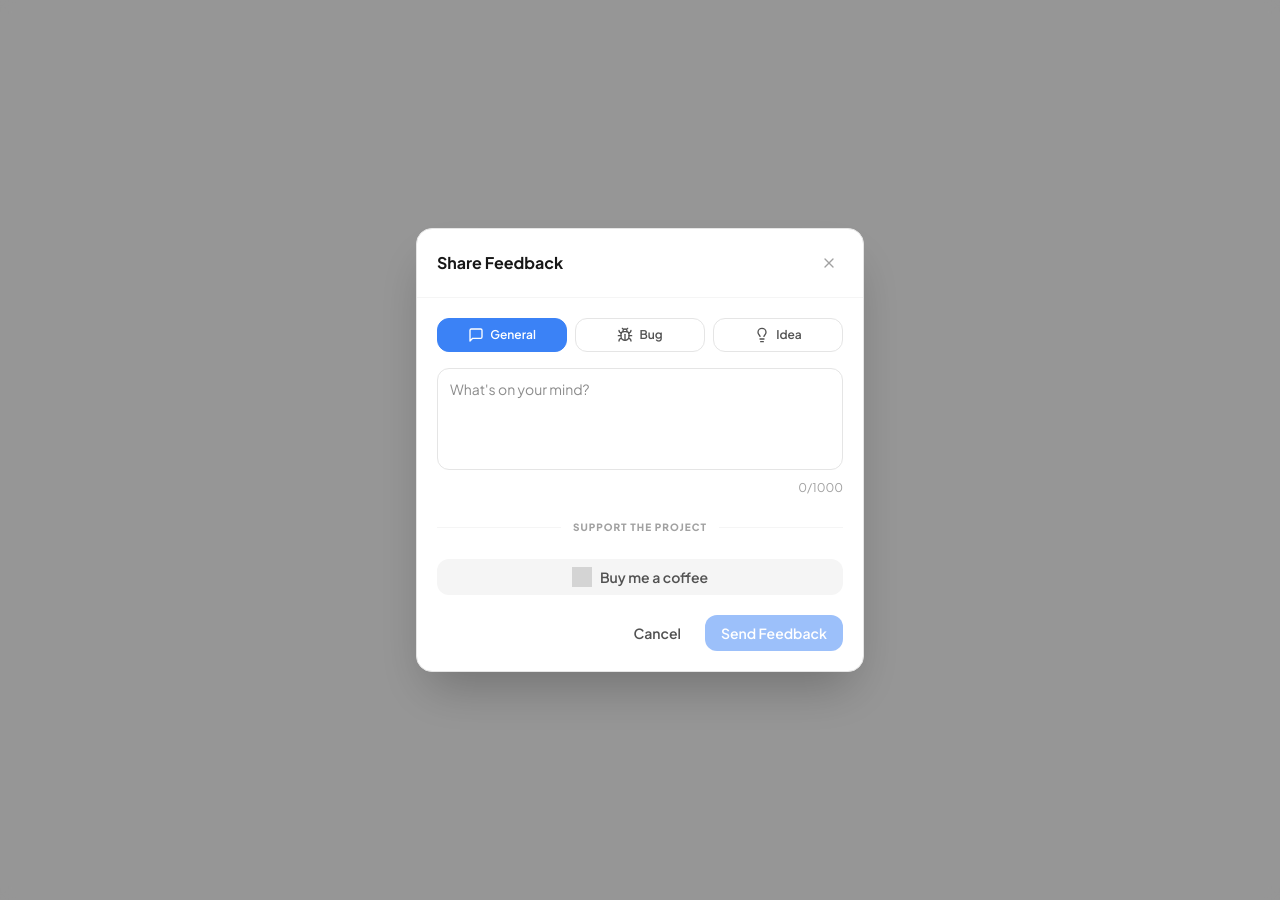
Test: FeedbackModal › enables submit once message is typed
Type "Great app!" into the text box named "Feedback message" at (640, 419), box 437,368 -> 843,470
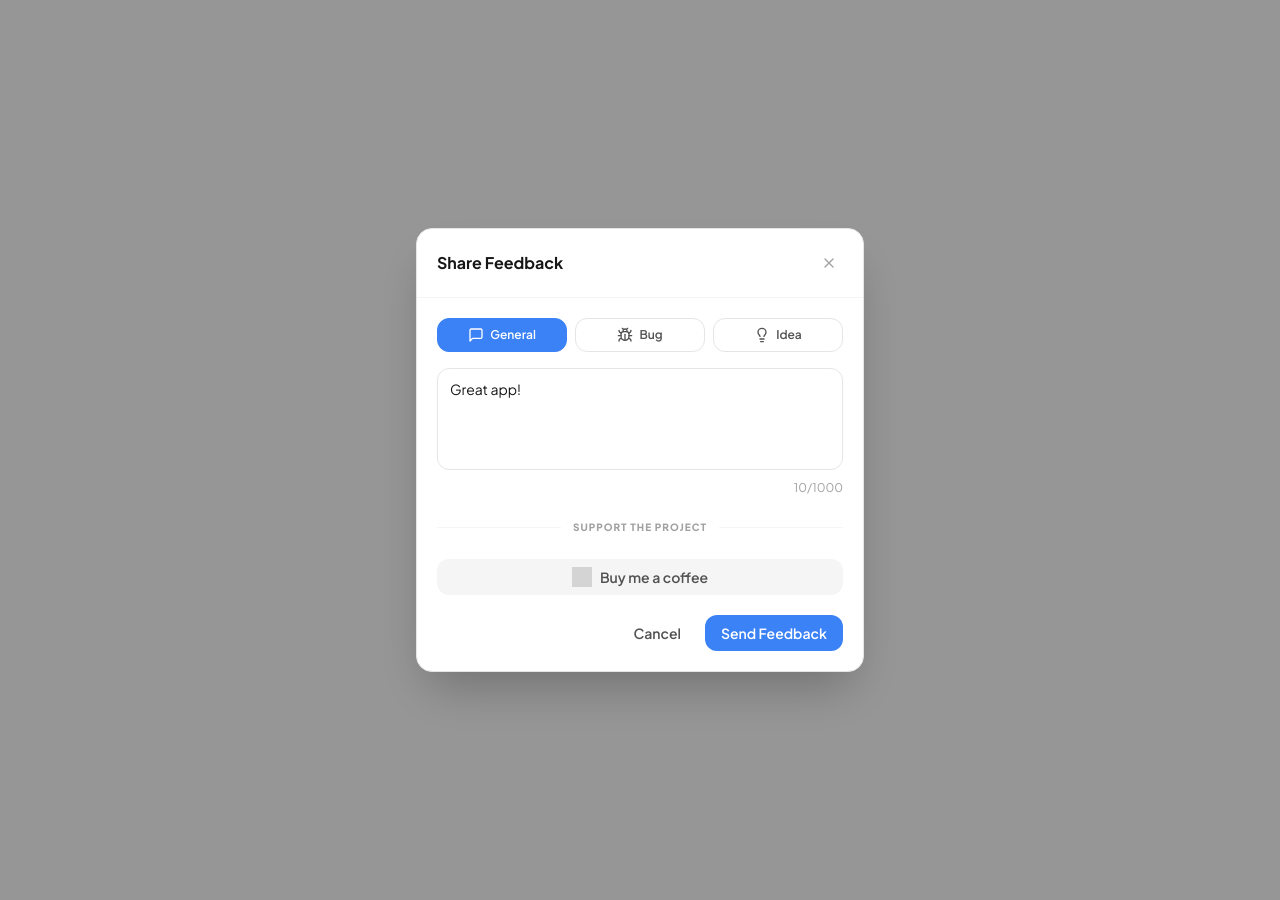
Result: the button "Send Feedback" is enabled at 705,615 -> 843,651
